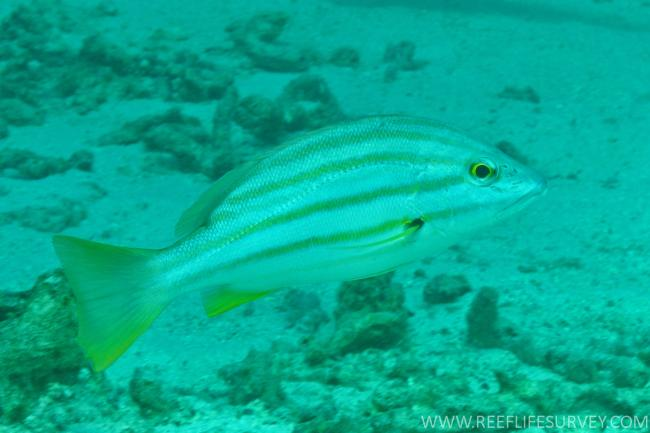fish: (52, 114, 549, 375)
